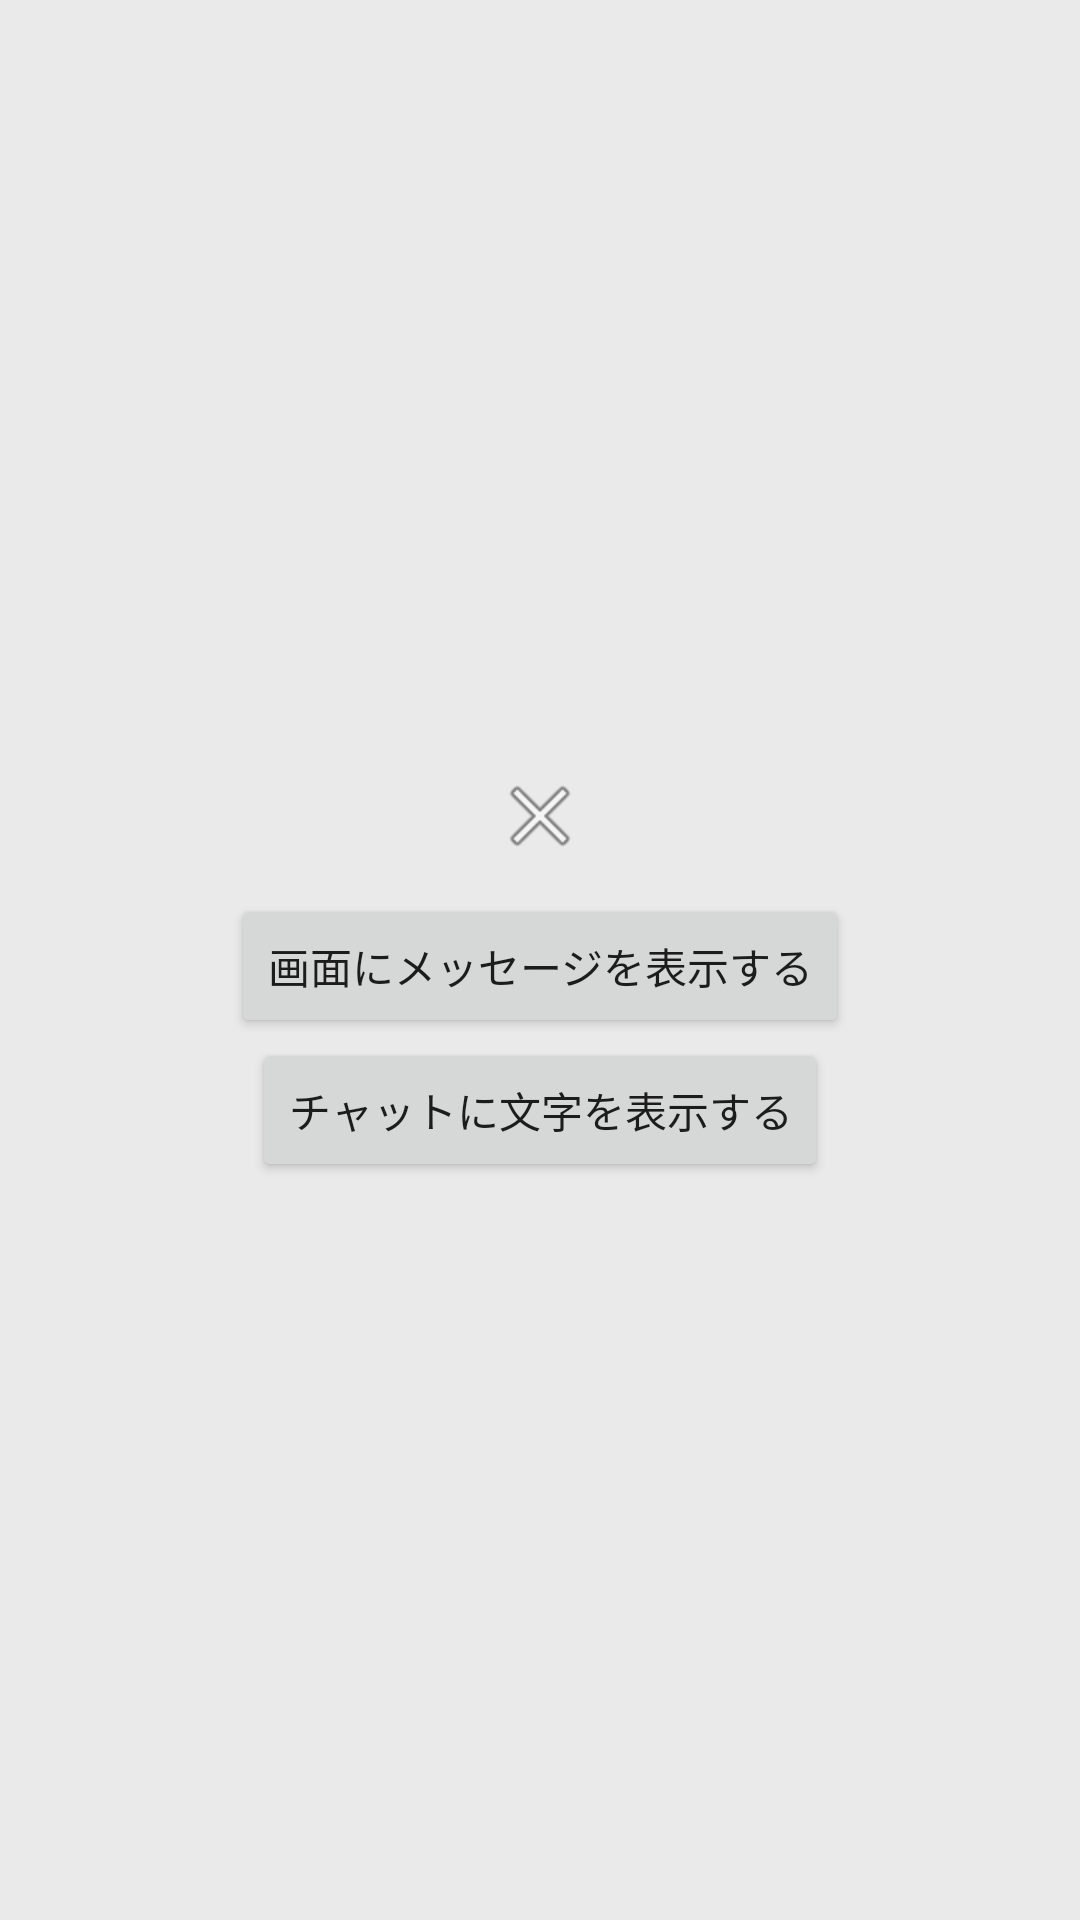

Locate icon controls on the screen. Image size 1080 × 1920, boxes as box=[x1, y1, x2, y2].
close clear cancel: box=[510, 786, 570, 846]
